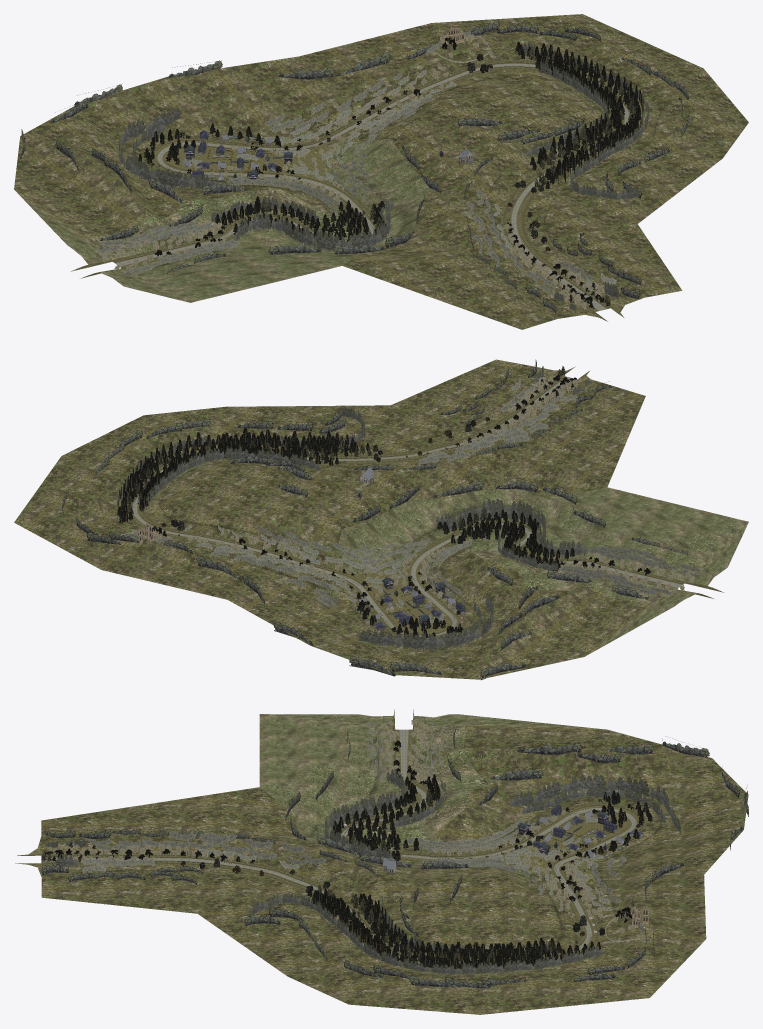
Rendered from stage-ghos.glb.
3 renders of one model, top to bottom at view 1: azimuth 30°, elevation 25°; view 2: azimuth 150°, elevation 25°; view 3: azimuth 270°, elevation 25°, orthographic. The views are drawn at different scales.
Parts seen in each view (by area): view 1: part 1, part 2, part 0, part 3, part 5; view 2: part 1, part 2, part 0, part 3, part 5; view 3: part 1, part 2, part 0, part 3, part 5.
Boxes of the visible parts, bbox=[...] form: part 1: bbox=[14, 14, 748, 329]; part 2: bbox=[20, 20, 689, 316]; part 0: bbox=[114, 63, 630, 311]; part 3: bbox=[183, 22, 490, 182]; part 5: bbox=[114, 62, 628, 308]; part 1: bbox=[14, 359, 748, 679]; part 2: bbox=[62, 359, 701, 679]; part 0: bbox=[131, 376, 682, 636]; part 3: bbox=[120, 467, 465, 629]; part 5: bbox=[132, 377, 683, 637]; part 1: bbox=[15, 709, 748, 1014]; part 2: bbox=[41, 719, 748, 987]; part 0: bbox=[41, 729, 639, 966]; part 3: bbox=[382, 804, 648, 942]; part 5: bbox=[41, 781, 638, 955].
Bounding box in the file's own units: 2222 × 219 × 2148.
79 materials, 79 textured.
